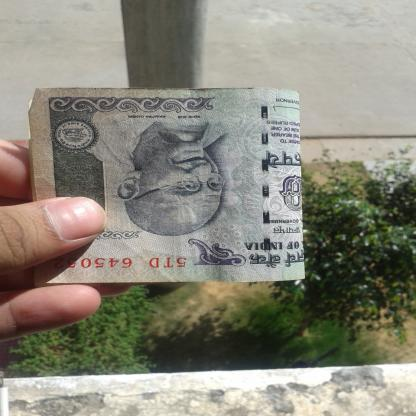Old100Front: (28, 86, 306, 288)
